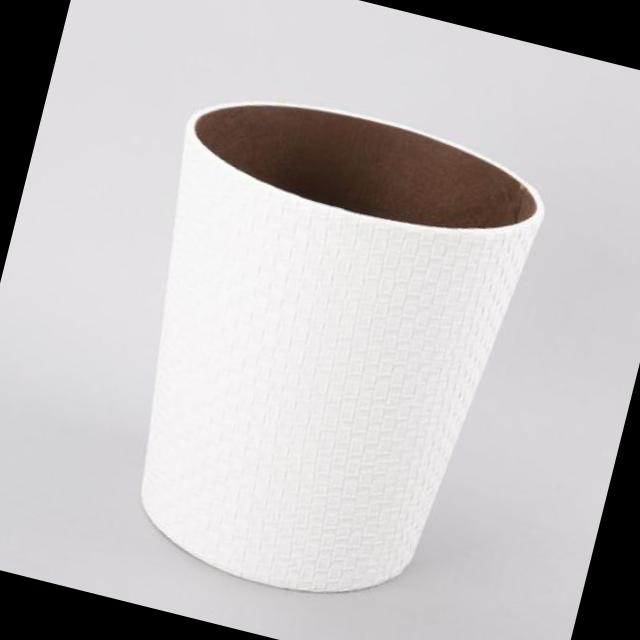dustbin: (75, 62, 564, 632)
